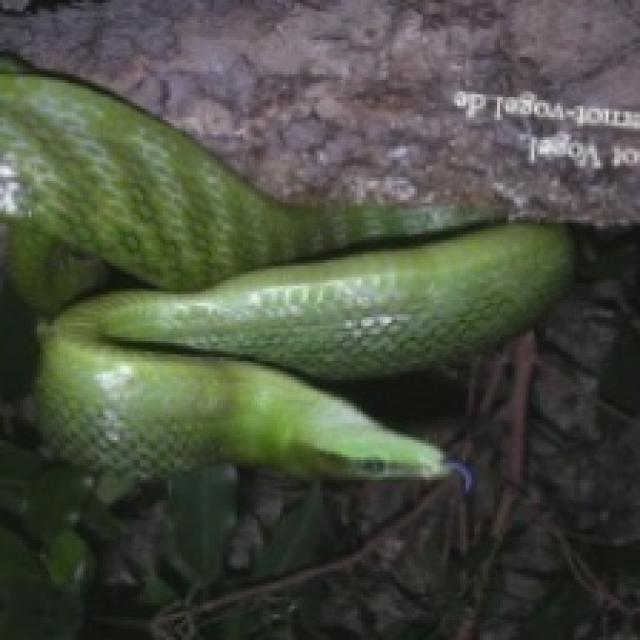red-tailed green ratsnake: (0, 54, 569, 477)
